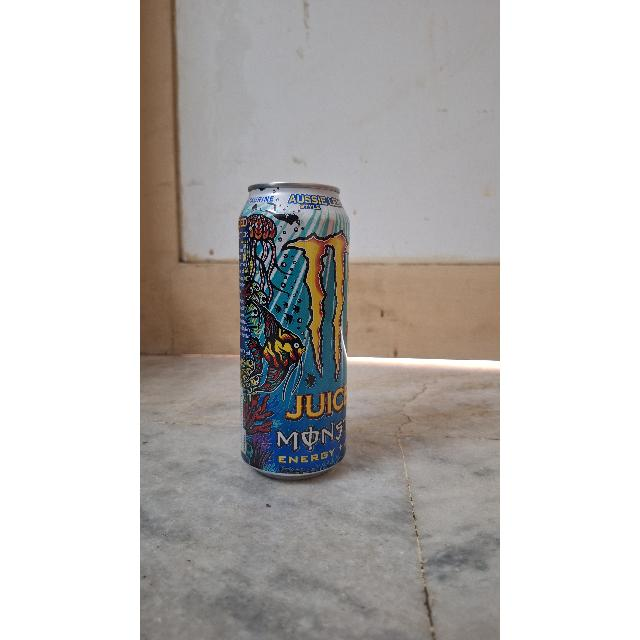Monster Aussie Lemonade: (232, 178, 362, 480)
